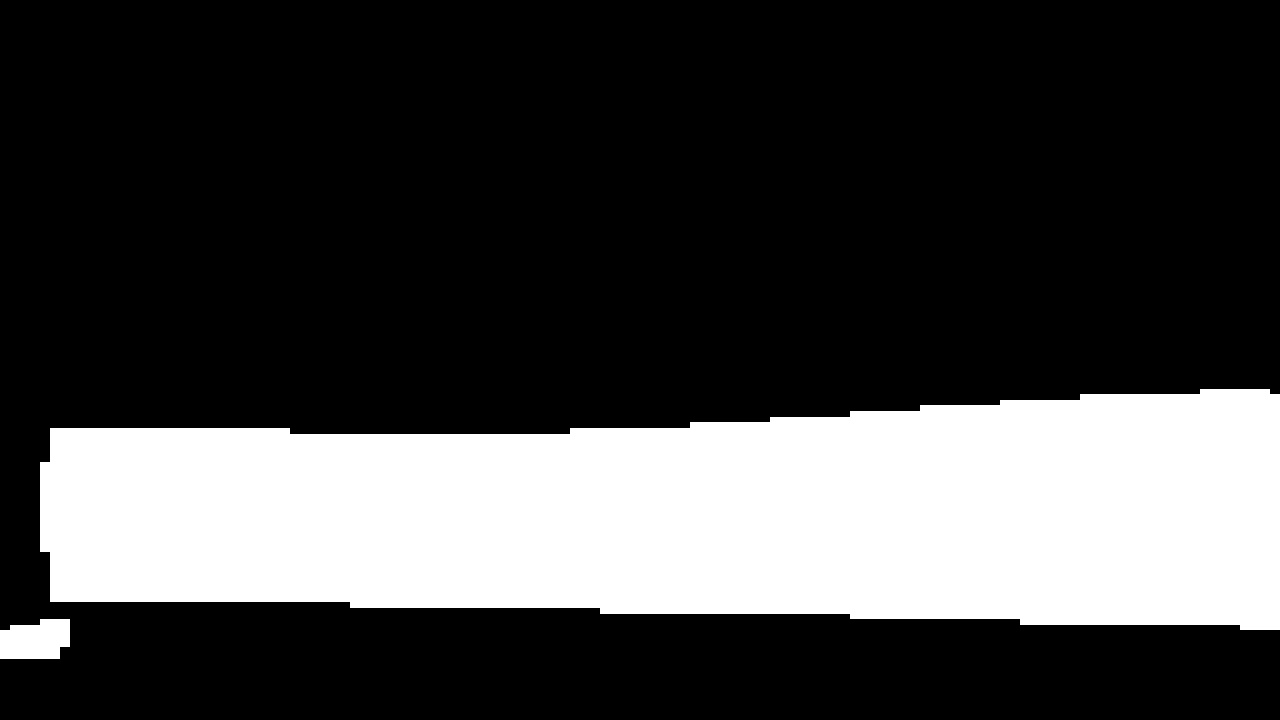Turbine: (40, 371, 1254, 623)
